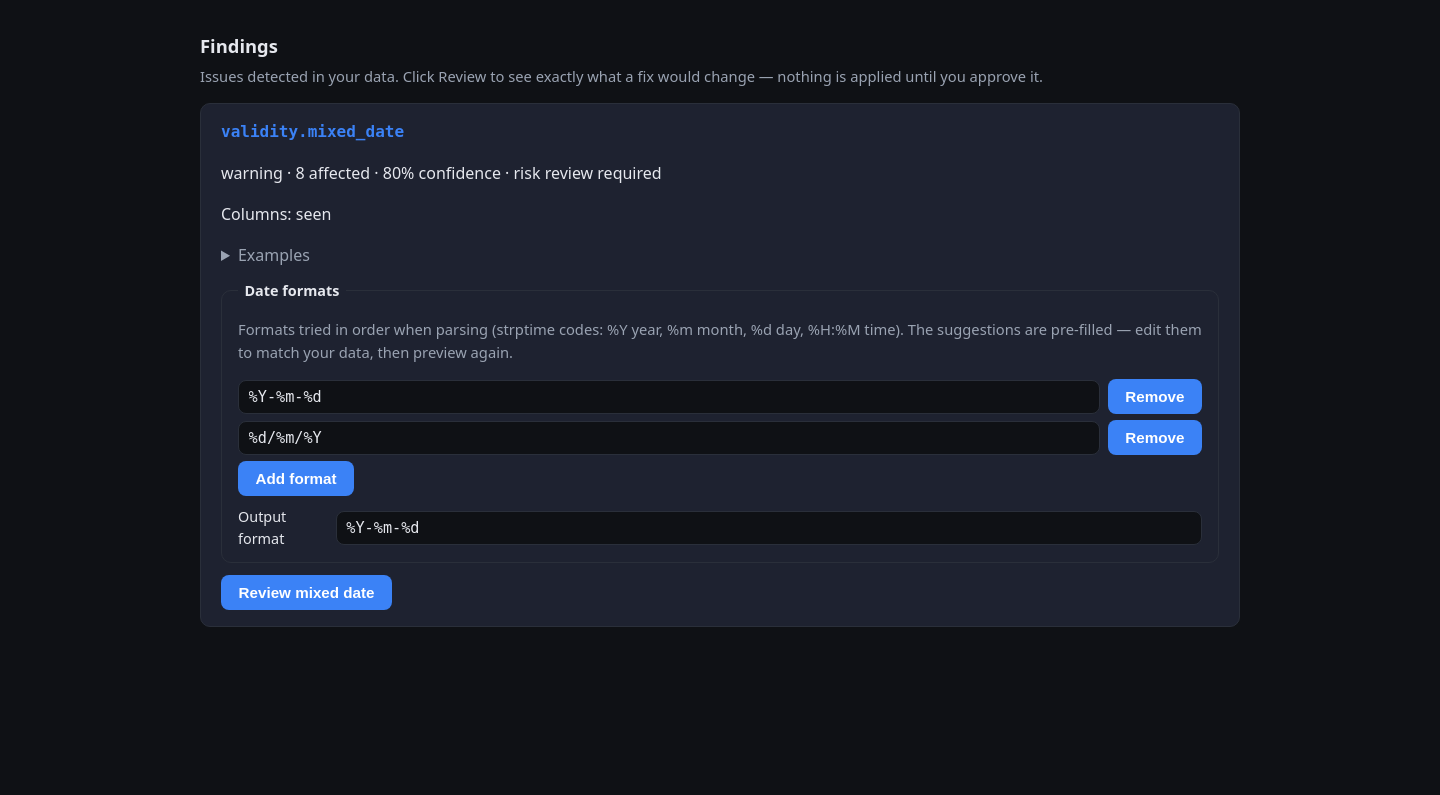
Test: IssueList › clears a stale preview when formats change
Step 1. Click the button "Review mixed date" → (307,593), box [221,575,392,610]
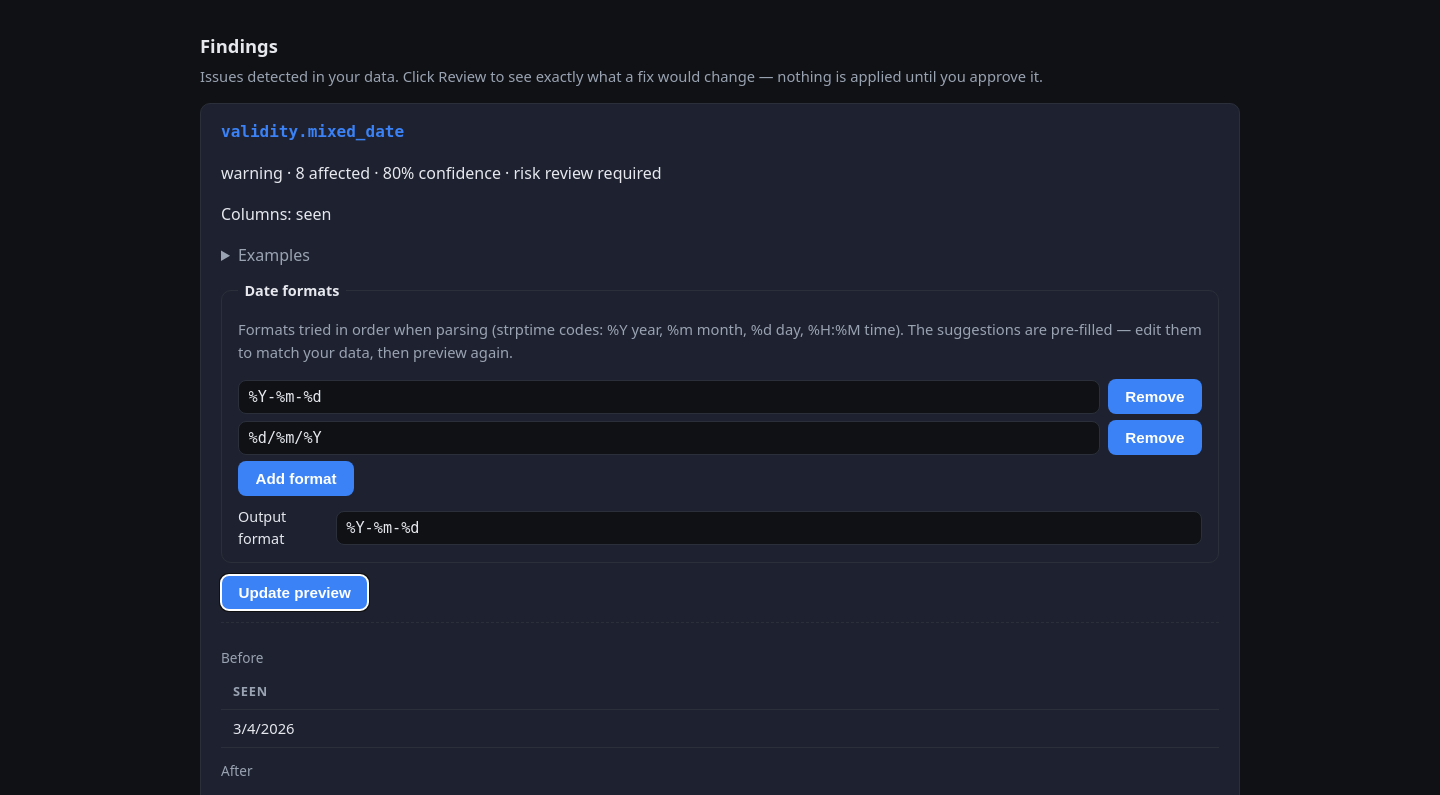
Now the table "Before" is shown, box [221,647,1219,748]
Now the button "Update preview" is shown, box [221,575,368,610]
Step 2. Type "x" into the field named "Input format 1" → (669,397), box [238,380,1100,414]
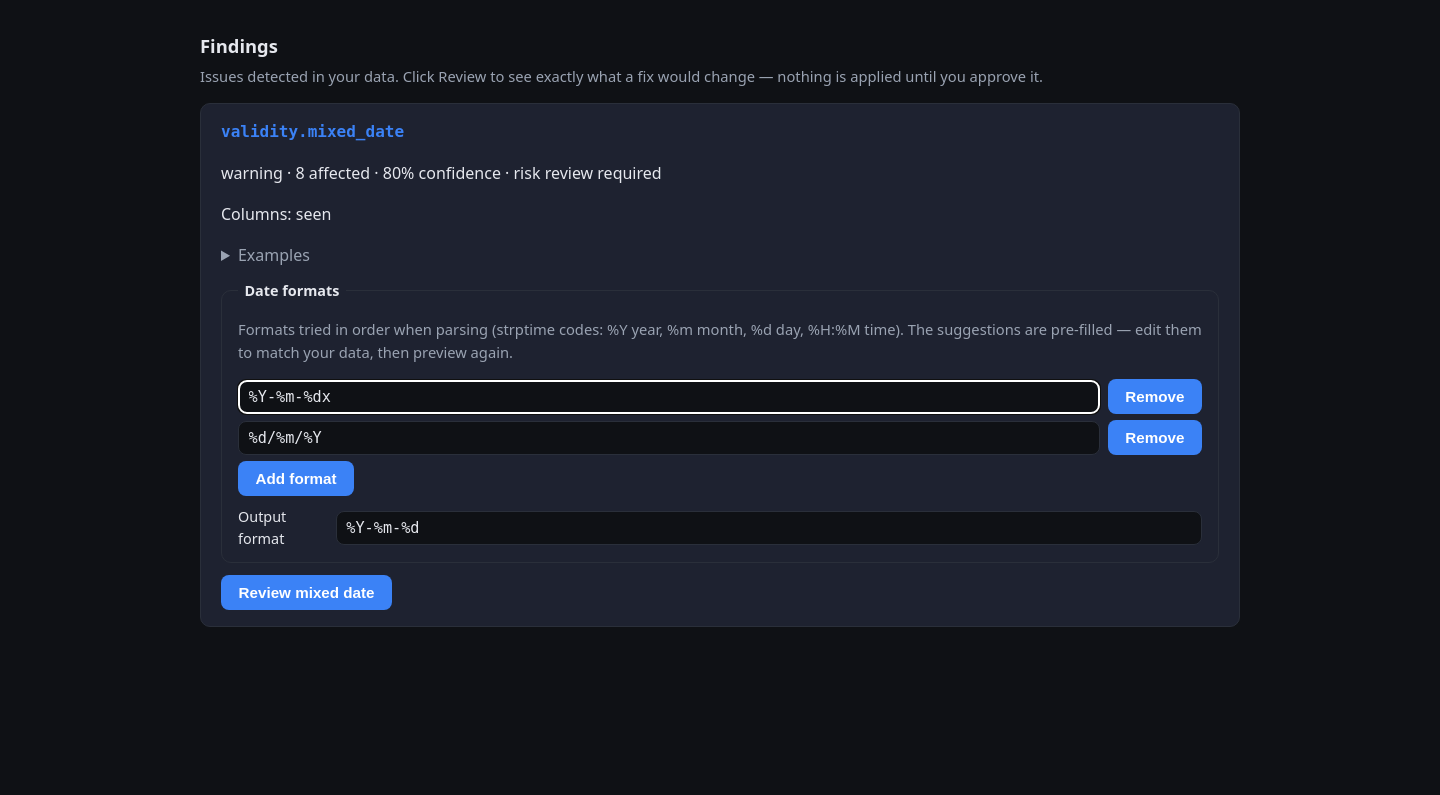
Now the text "Before" is gone
Now the button "Review mixed date" is shown, box [221,575,392,610]
